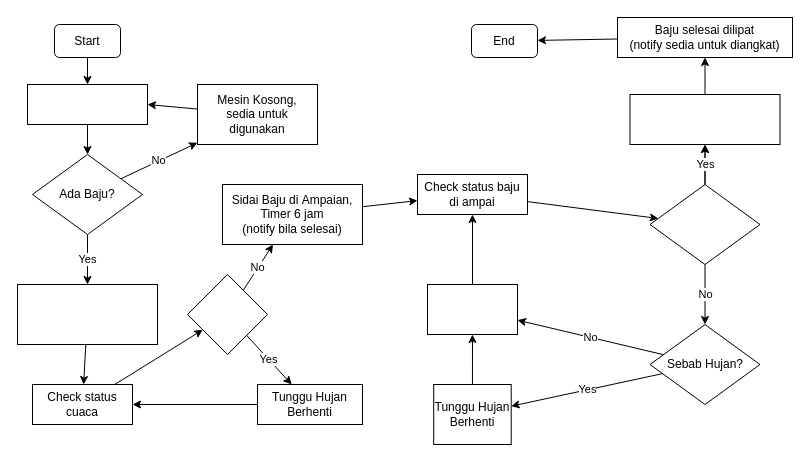
The diagram is 810 pixels wide and 462 high, and some of its shapes have lost their labels. The shapes that lost their labels are listed below. From the top down, each one's centre as x and y in pixels, then its label:
At point (87, 104): "Check status dalam mesin basuh".
At point (704, 119): "Angkat baju di ampai (notify sedia untuk dilipat)".
At point (704, 224): "Baju kering?".
At point (87, 314): "Basuh, Timer 1 jam 30 minit (notify bila selesai)".
At point (227, 314): "Hujan?".
At point (472, 309): "Tunggu sehingga kering".
